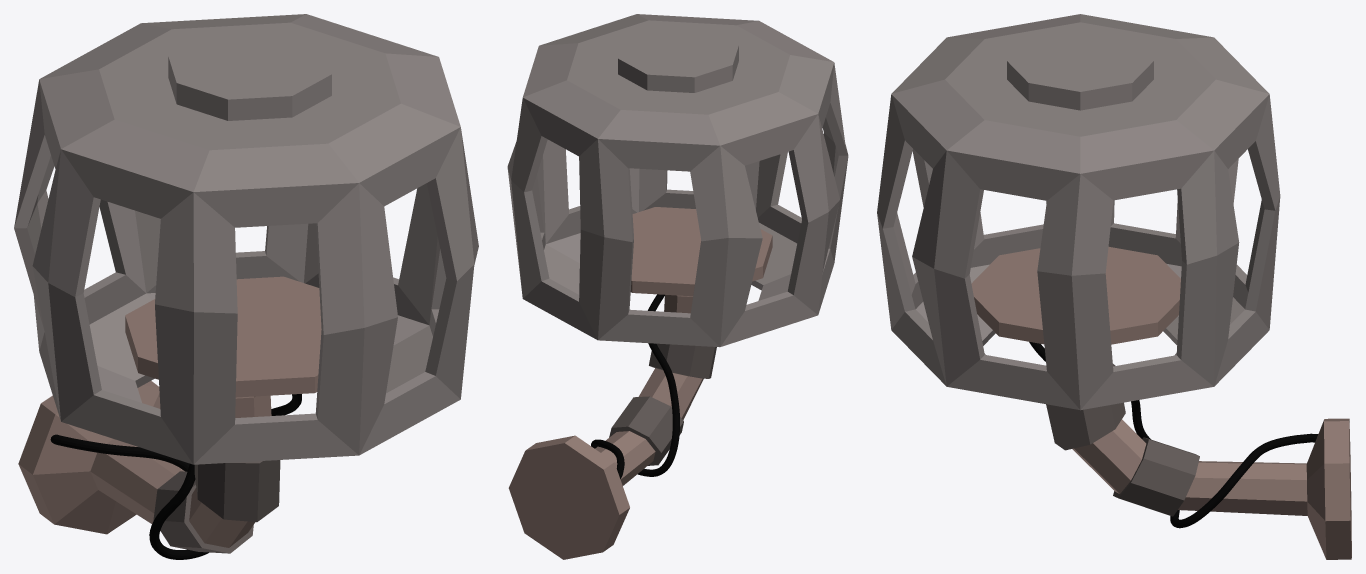
File: muurlamp.fbx
3 renders of one model, left to right at view 1: azimuth 30°, elevation 25°; view 2: azimuth 150°, elevation 25°; view 3: azimuth 270°, elevation 25°, orthographic. The views are drawn at different scales.
Parts seen in each view (by area): view 1: Cylinder.014, Cylinder.015, Cylinder.017, Cylinder.016, Cylinder.018; view 2: Cylinder.014, Cylinder.015, Cylinder.018, Cylinder.016, Cylinder.017; view 3: Cylinder.014, Cylinder.015, Cylinder.018, Cylinder.017, Cylinder.016.
Boxes of the visible parts, x1,y1,x2,y2 form: Cylinder.014: (14,14,478,464); Cylinder.015: (18,276,321,547); Cylinder.017: (194,460,280,522); Cylinder.016: (50,394,301,559); Cylinder.018: (153,471,253,553); Cylinder.014: (507,14,848,347); Cylinder.015: (508,207,772,559); Cylinder.018: (609,396,683,465); Cylinder.016: (591,294,679,479); Cylinder.017: (649,343,716,378); Cylinder.014: (877,14,1280,410); Cylinder.015: (971,247,1351,559); Cylinder.018: (1113,437,1199,516); Cylinder.017: (1046,364,1125,450); Cylinder.016: (1029,342,1318,528).
Size of the model in its own units: 379 by 515 by 446.
